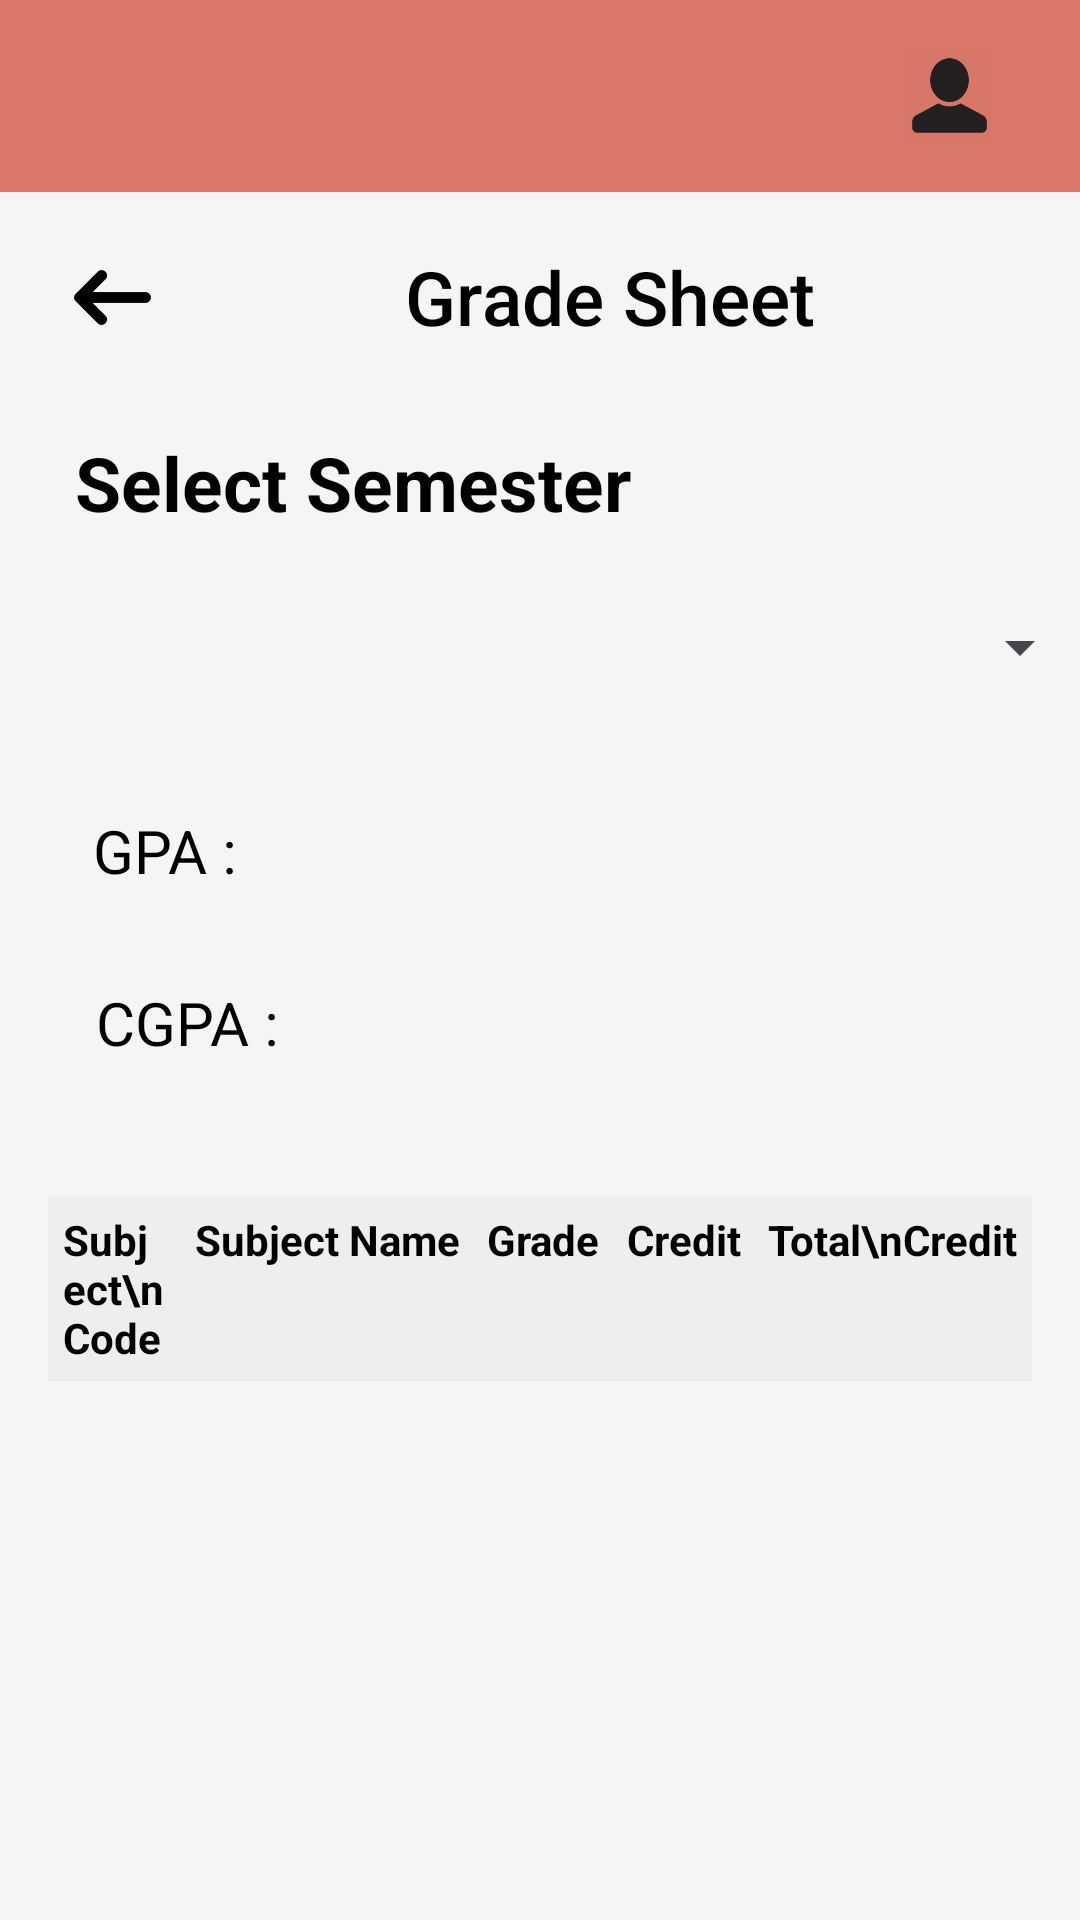

Icons on this 1080*1920 Android screen, each with its box as (x1, y1, x2, y2):
user profile: (912, 58, 987, 133)
